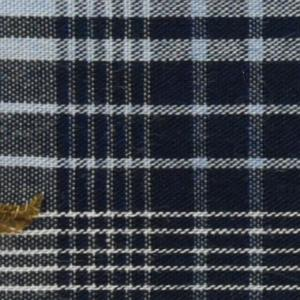Damage: (1, 198, 42, 235)
Oil Stain: (1, 188, 48, 247)
